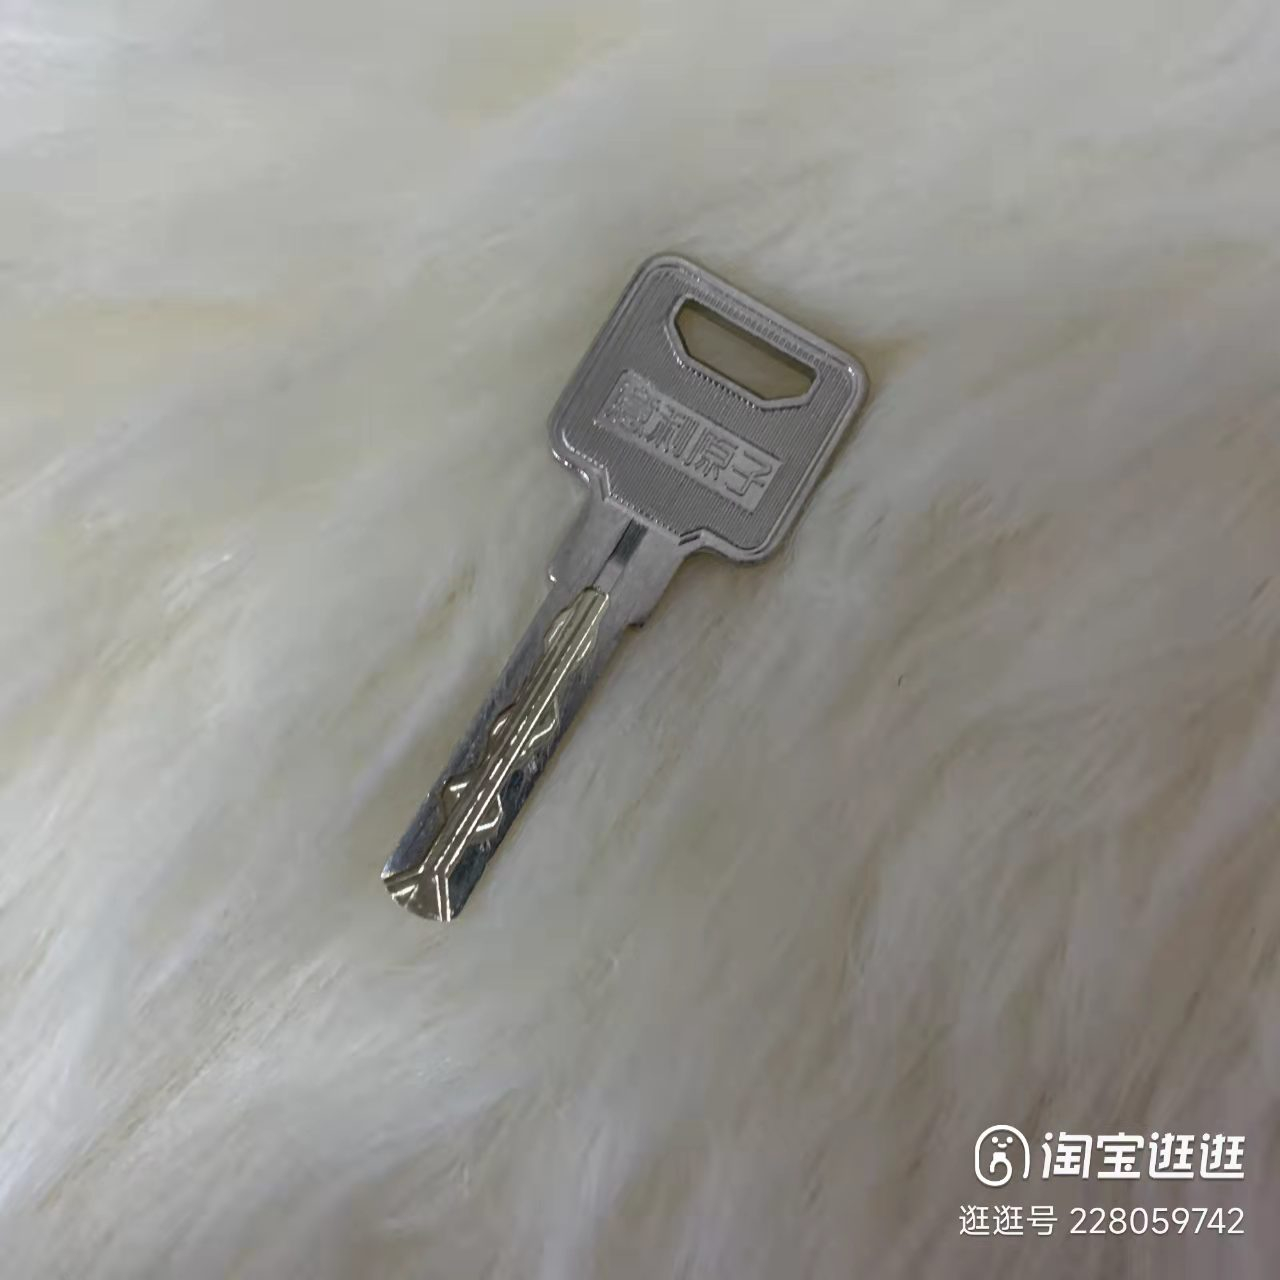key: (381, 239, 879, 925)
